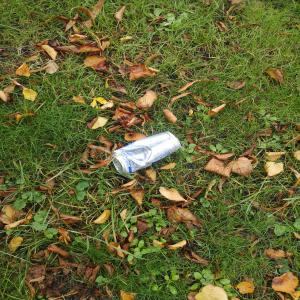Can: (108, 129, 186, 178)
